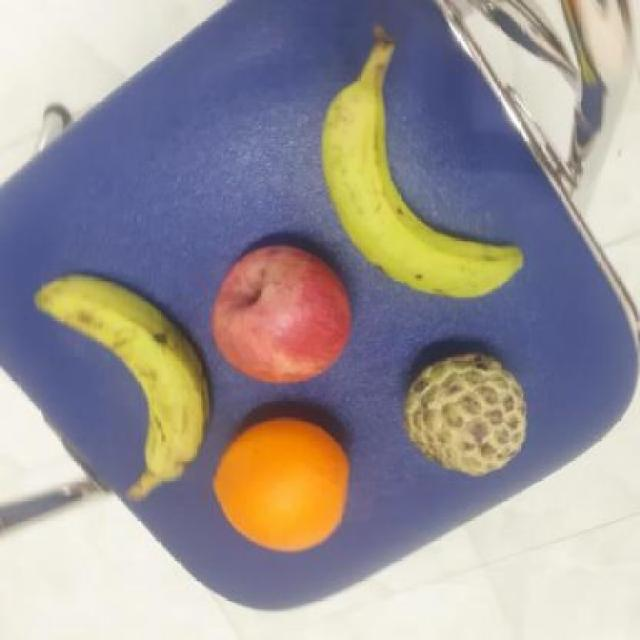apple: (210, 245, 352, 386)
banana: (313, 80, 527, 303), (29, 270, 209, 481)
oren: (213, 414, 352, 558)
sugar apple: (394, 349, 528, 483)
